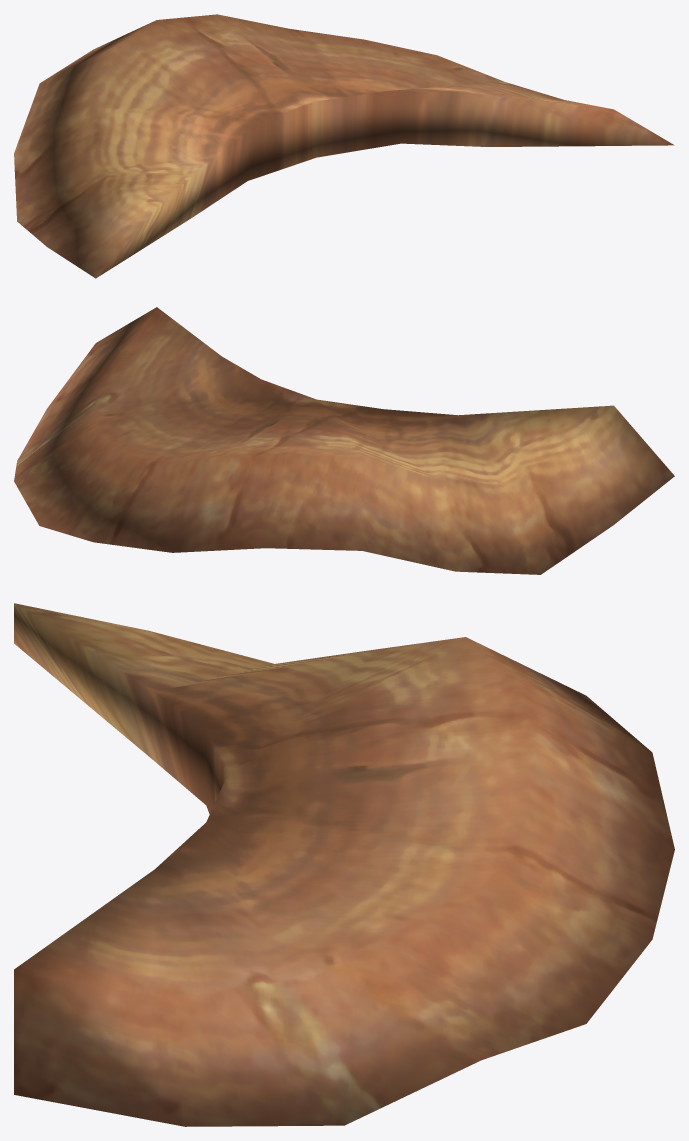
The model's file is mushroom05.fbx.
3 renders of one model, top to bottom at view 1: azimuth 30°, elevation 25°; view 2: azimuth 150°, elevation 25°; view 3: azimuth 270°, elevation 25°, orthographic. The views are drawn at different scales.
Visible parts, largest first — view 1: mushroom05; view 2: mushroom05; view 3: mushroom05.
Boxes of the visible parts, <box> form: mushroom05: <box>14,14,674,278</box>; mushroom05: <box>14,307,674,574</box>; mushroom05: <box>14,603,674,1126</box>.
Size of the model in its own units: 163 by 34.19 by 104.
